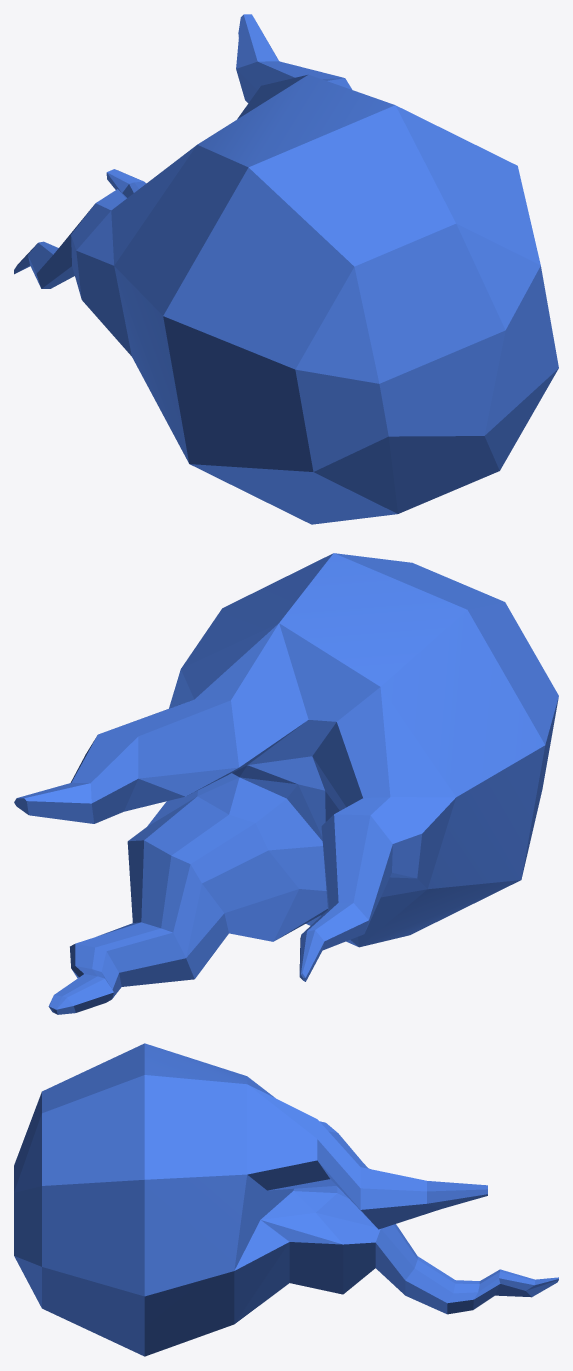
The model's file is 3D_Special_Will'o'wisp_Fireball_attack.fbx.
3 views of the same model, one above another, from view 1: azimuth 30°, elevation 25°; view 2: azimuth 150°, elevation 25°; view 3: azimuth 270°, elevation 25° (orthographic). The views are drawn at different scales.
Visible parts, largest first — view 1: SM_fireball_03; view 2: SM_fireball_03; view 3: SM_fireball_03.
Boxes of the visible parts, x1,y1,x2,y2 form: SM_fireball_03: (14, 14, 558, 524); SM_fireball_03: (14, 553, 558, 1014); SM_fireball_03: (14, 1043, 558, 1356).
Bounding box in the file's own units: 16.17 × 16.2 × 28.71.
1 material, 1 textured.
